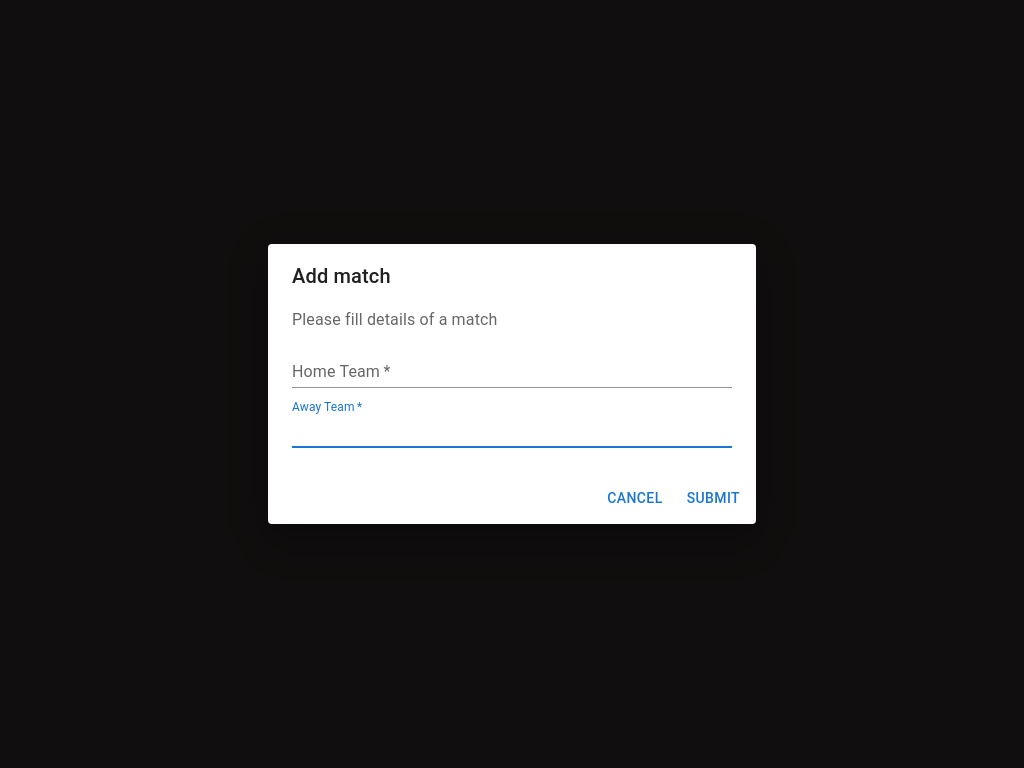
Test: AddMatchDialog › should set the error for home team and away team if fields are empty
The image size is (1024, 768).
Step 1. Click the button "Submit" → coordinates (713, 498), box [679, 480, 748, 516]
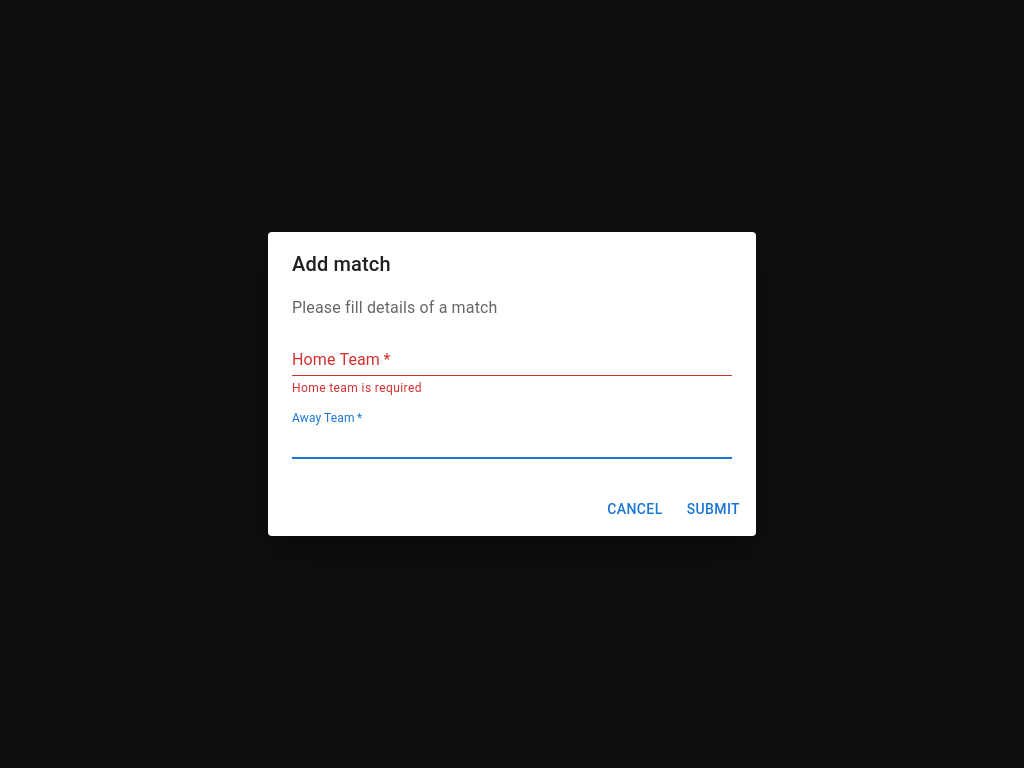
Result: the text "Home team is required" is shown at [292, 381, 422, 395]
